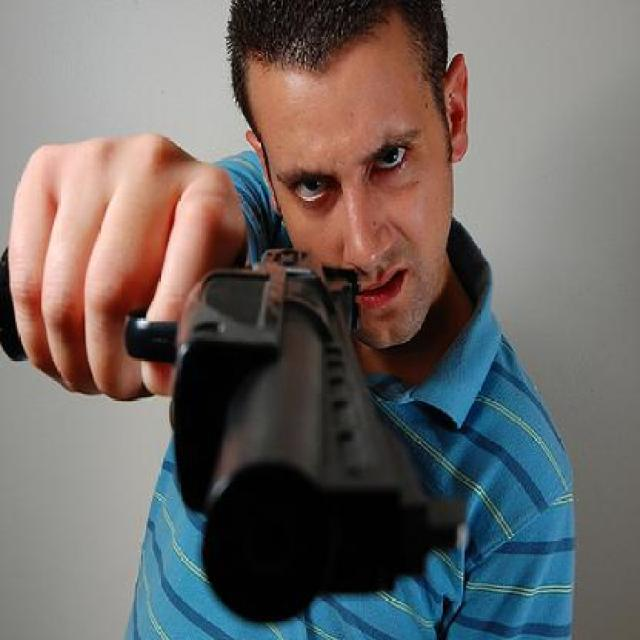guns: (2, 233, 456, 621)
